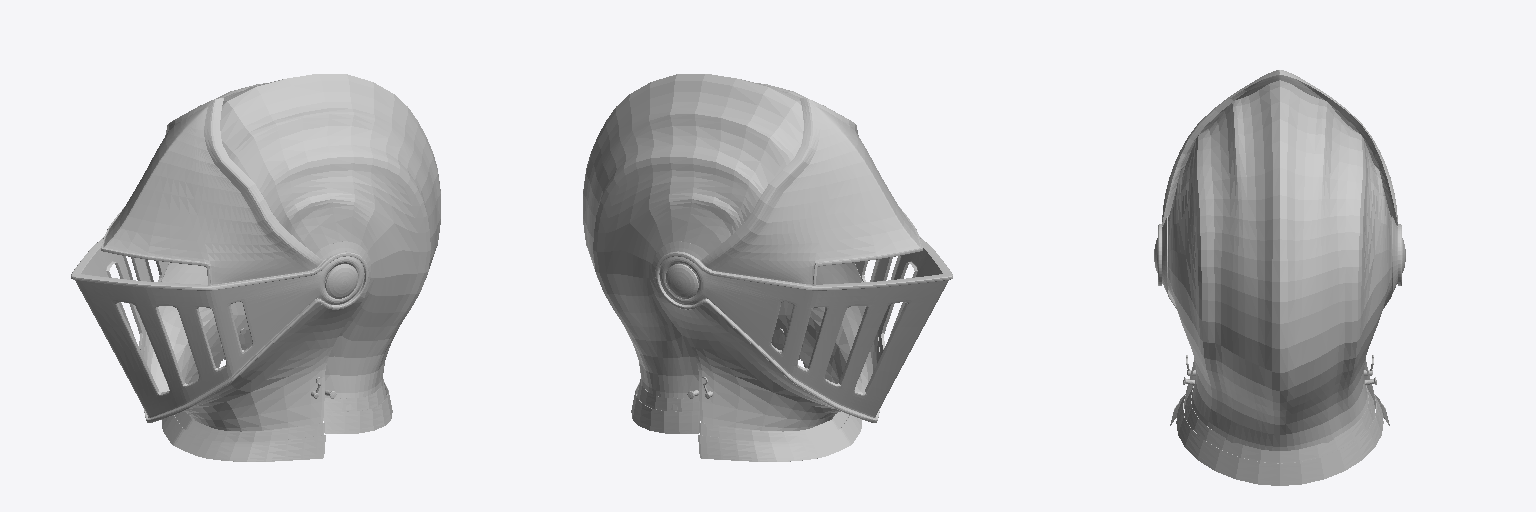
3 renders of one model, left to right at view 1: azimuth 30°, elevation 25°; view 2: azimuth 150°, elevation 25°; view 3: azimuth 270°, elevation 25°, orthographic.
Parts seen in each view (by area): view 1: Helmet, Plane, Helmet.001, Circle; view 2: Helmet, Plane, Helmet.001, Circle; view 3: Helmet, Plane, Helmet.001.
Part boxes in pixels (bbox=[...]): Helmet: bbox=[216, 74, 440, 433]; Plane: bbox=[71, 98, 368, 422]; Helmet.001: bbox=[144, 241, 370, 461]; Circle: bbox=[325, 264, 357, 298]; Helmet: bbox=[583, 74, 807, 433]; Plane: bbox=[655, 98, 952, 422]; Helmet.001: bbox=[653, 241, 879, 461]; Circle: bbox=[666, 264, 698, 298]; Helmet: bbox=[1168, 80, 1391, 485]; Plane: bbox=[1158, 70, 1401, 285]; Helmet.001: bbox=[1162, 216, 1397, 425].
Bounding box in the file's own units: 16.69 × 14.66 × 9.86.